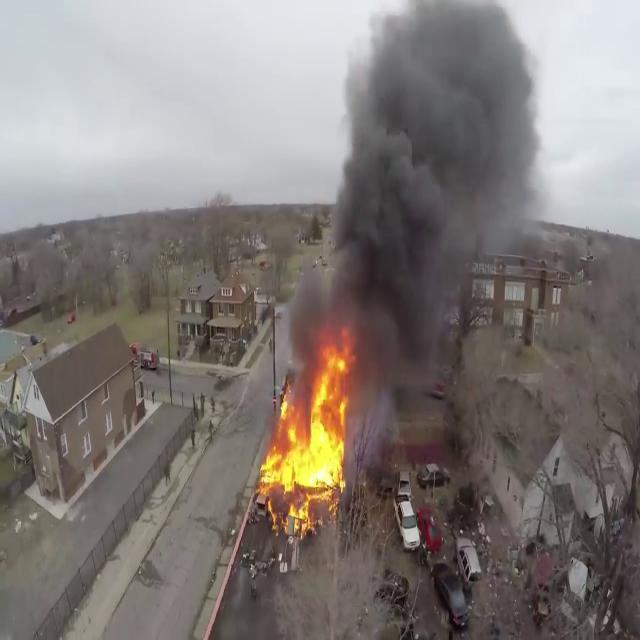Fire: (255, 337, 359, 520)
Smoke: (292, 0, 544, 362)
